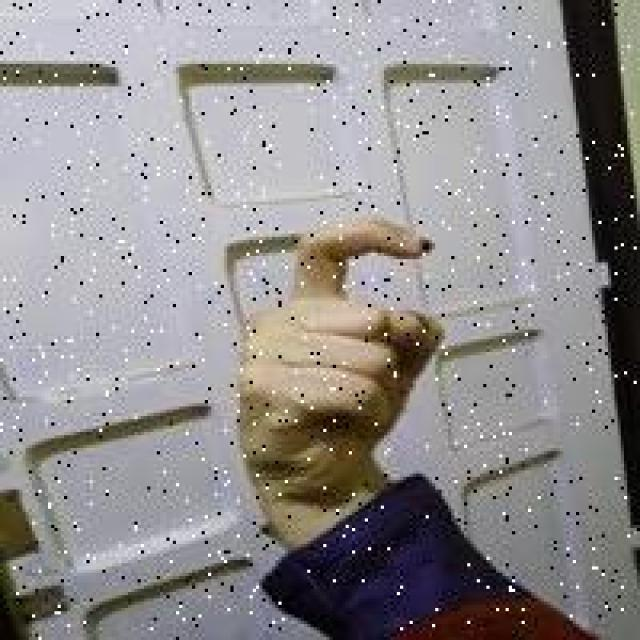X: (230, 216, 464, 507)
